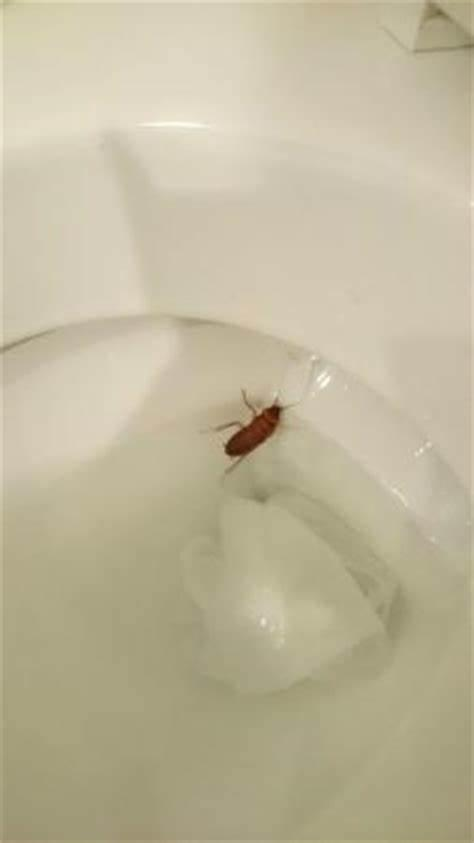cockroach: (220, 400, 289, 462)
